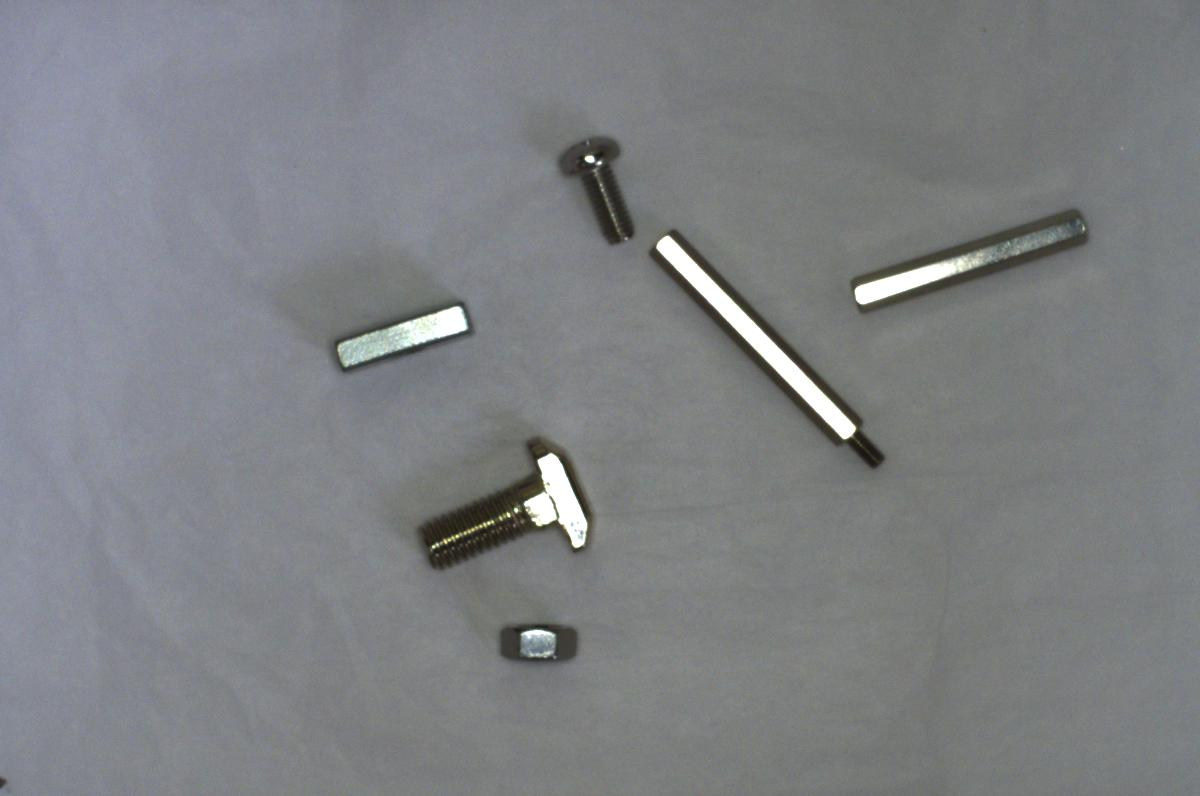Double hexagonal column: (844, 201, 1094, 315)
Hexagon nut: (488, 601, 586, 668)
Hexagonal steel column: (646, 226, 890, 468)
Rectangular nut: (333, 287, 474, 366)
Round head screw: (554, 122, 639, 248)
T-shaped screw: (413, 423, 599, 578)
